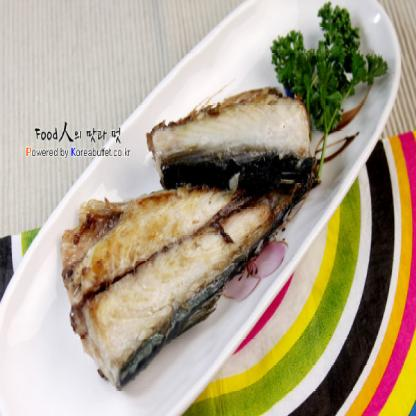Peixe: (47, 87, 319, 396)
